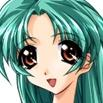NoHuman: (0, 0, 101, 103)
